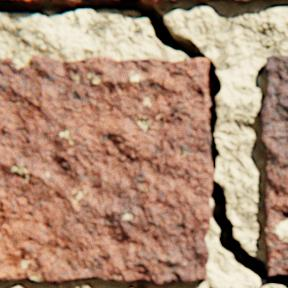brick: (0, 55, 214, 285), (259, 56, 287, 275), (136, 0, 281, 5), (9, 0, 123, 5)
crack: (0, 0, 287, 286)
